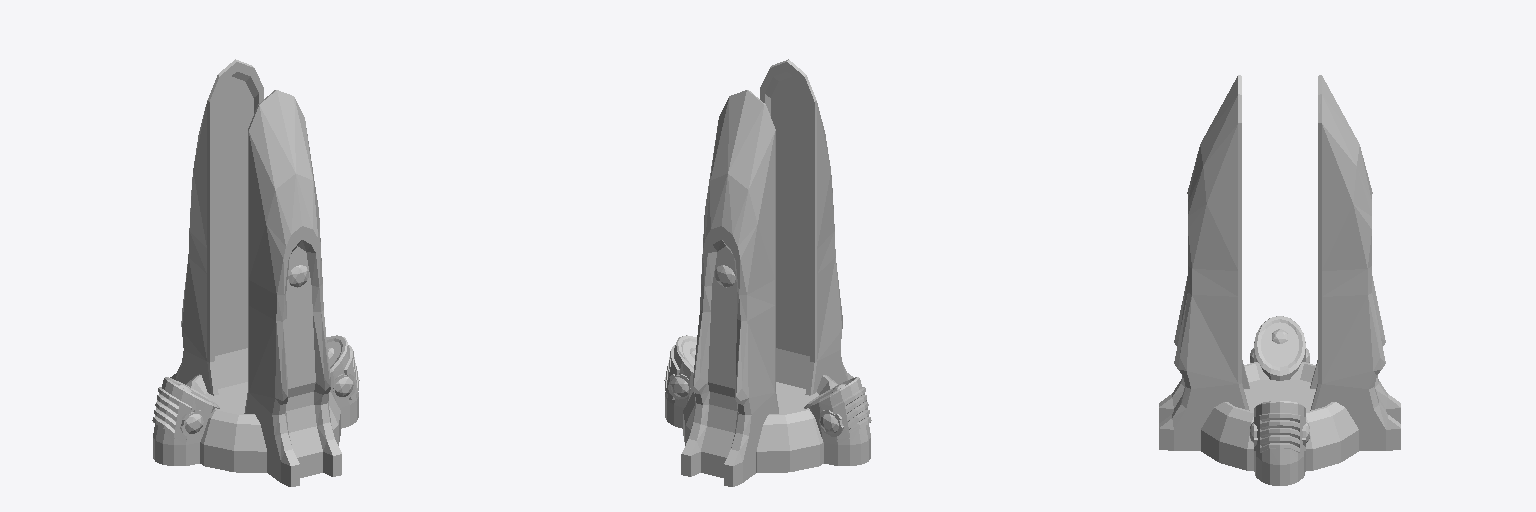
Rendered from pc kaiune.obj.
The picture shows the model from 3 angles: view 1: azimuth 30°, elevation 25°; view 2: azimuth 150°, elevation 25°; view 3: azimuth 270°, elevation 25°; orthographic projection.
Visible parts, largest first — view 1: Object.1; view 2: Object.1; view 3: Object.1.
Boxes of the visible parts, x1,y1,x2,y2 form: Object.1: [152, 59, 359, 486]; Object.1: [664, 59, 871, 486]; Object.1: [1159, 75, 1400, 485].
Size of the model in its own units: 64.7 by 112 by 67.55.